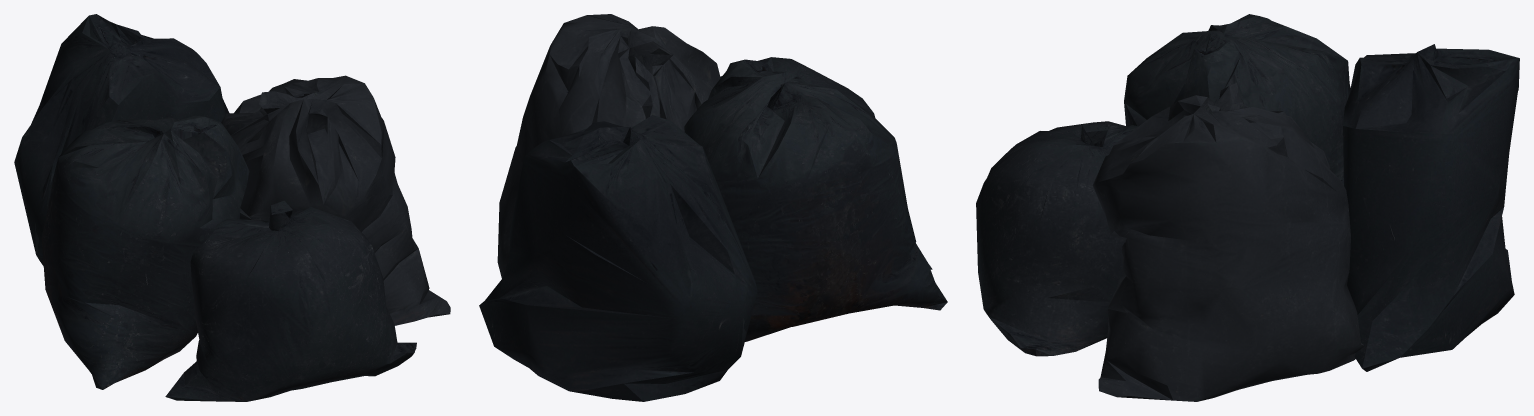
File: SM_SuLiaoDaiDui.glb
The picture shows the model from 3 angles, left to right: view 1: azimuth 30°, elevation 25°; view 2: azimuth 150°, elevation 25°; view 3: azimuth 270°, elevation 25°; orthographic projection. The views are drawn at different scales.
Parts seen in each view (by area): view 1: SM_SuLiaoDaiDui; view 2: SM_SuLiaoDaiDui; view 3: SM_SuLiaoDaiDui.
Boxes of the visible parts, x1=… form: SM_SuLiaoDaiDui: x1=14, y1=14, x2=450, y2=401; SM_SuLiaoDaiDui: x1=479, y1=14, x2=947, y2=401; SM_SuLiaoDaiDui: x1=976, y1=14, x2=1519, y2=401.
Bounding box in the file's own units: 1.01 × 0.5963 × 1.18.
Materials: 1 (1 with a texture image).
